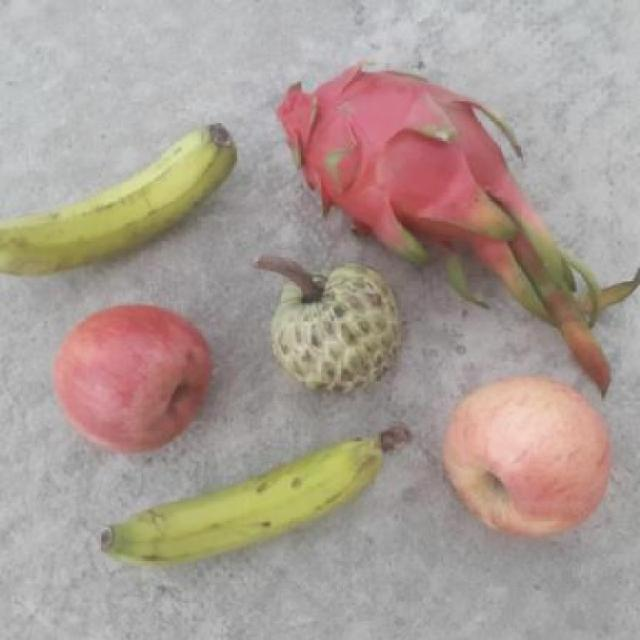apple: (438, 373, 612, 547), (51, 300, 214, 454)
banana: (78, 424, 412, 582), (0, 121, 238, 281)
dragon fruit: (270, 62, 508, 252)
sugar apple: (267, 263, 404, 399)
